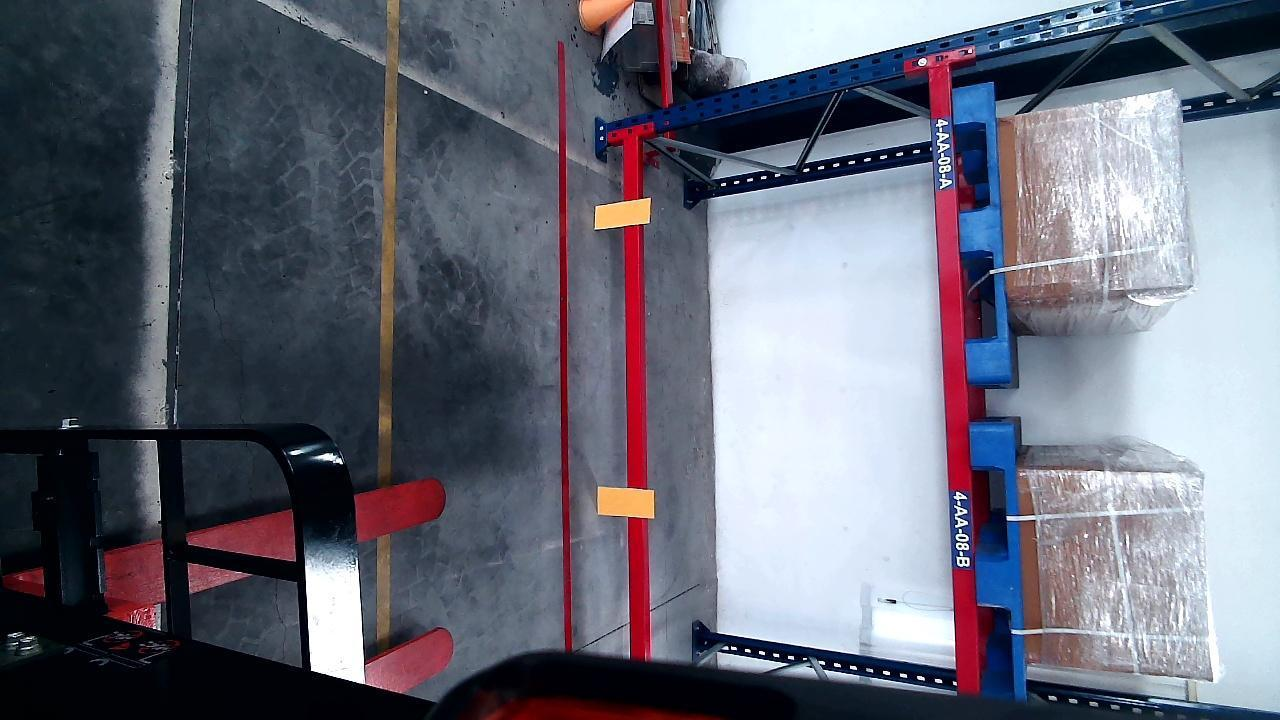h_rack: (928, 71, 981, 686), (619, 129, 649, 658)
orange_strip: (598, 486, 654, 515), (595, 198, 649, 228)
red_line: (558, 42, 575, 648)
small_pallet: (954, 82, 1010, 381), (973, 430, 1026, 689)
yellow_line: (375, 9, 401, 637)
